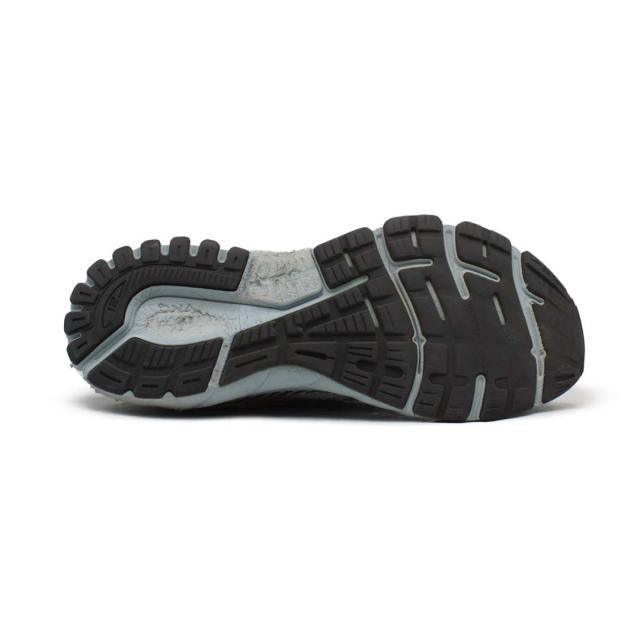outersole: (65, 215, 583, 423)
